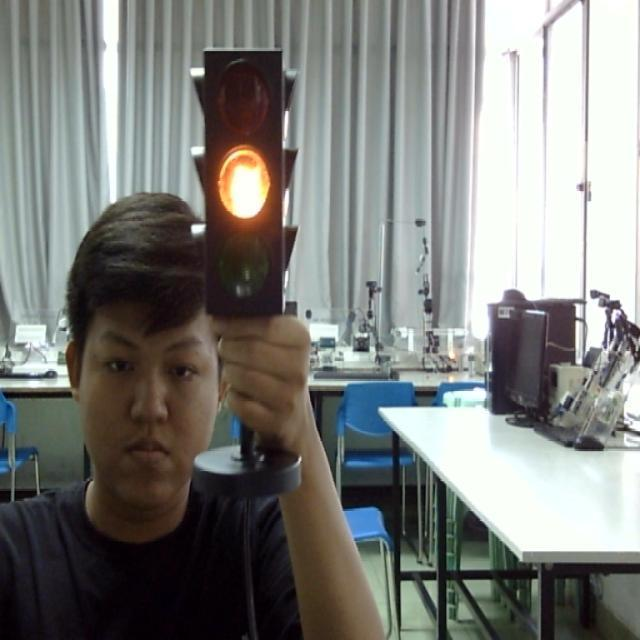yellow_light: (199, 42, 306, 324)
